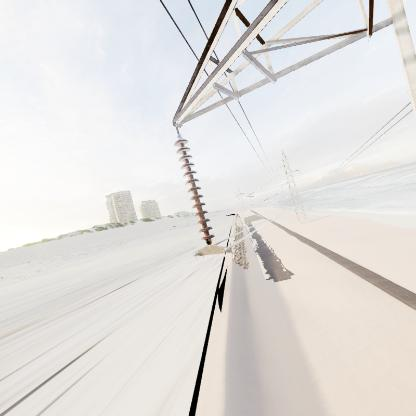insulator: (173, 136, 216, 247)
